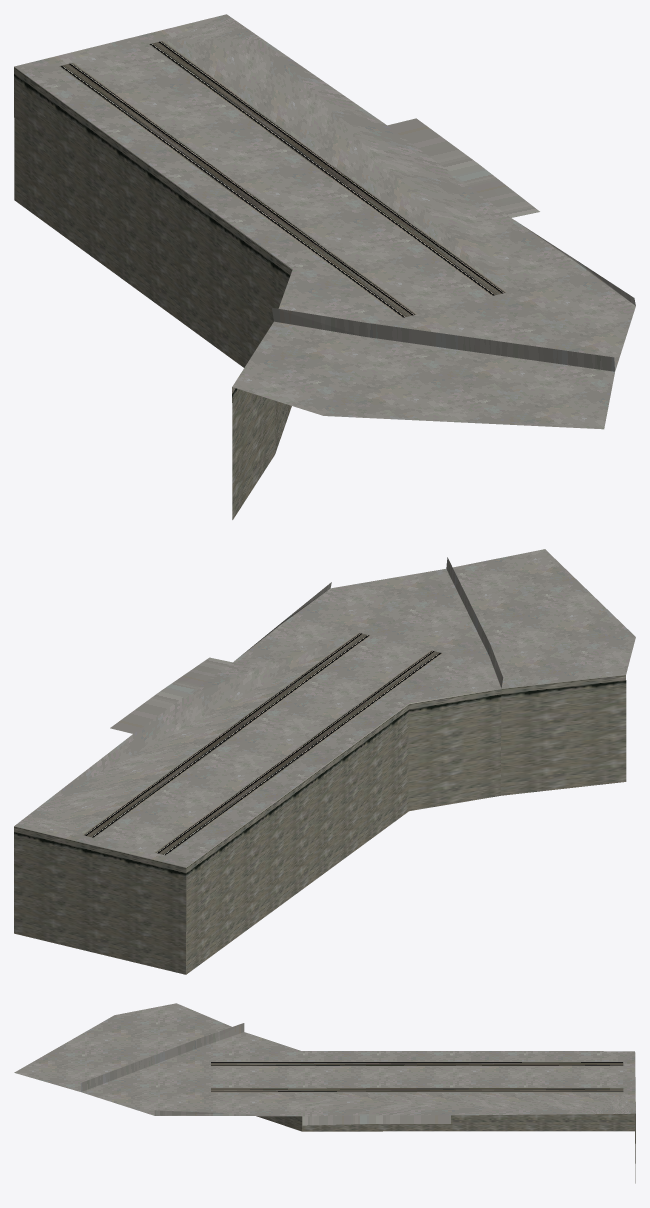
The model's file is lodport_14c_sfse.obj.
The picture shows the model from 3 angles, top to bottom: view 1: azimuth 30°, elevation 25°; view 2: azimuth 150°, elevation 25°; view 3: azimuth 270°, elevation 25°; orthographic projection. The views are drawn at different scales.
Visible parts, largest first — view 1: LODport_14C_SFSe; view 2: LODport_14C_SFSe; view 3: LODport_14C_SFSe.
Boxes of the visible parts, x1,y1,x2,y2 form: LODport_14C_SFSe: (14, 14, 635, 519); LODport_14C_SFSe: (14, 549, 635, 974); LODport_14C_SFSe: (14, 1003, 635, 1183).
Size of the model in its own units: 77.71 by 26.56 by 169.
3 materials, 3 textured.
